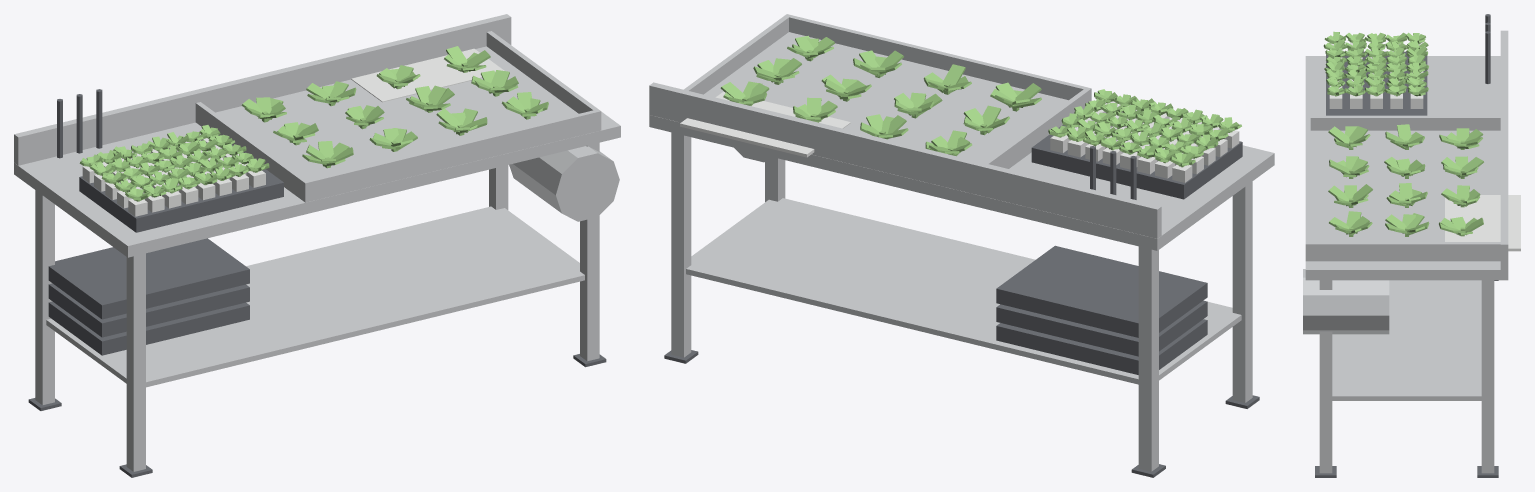
File: vertical-farm-and-hydroponics-tower-vertical-farm-and--c6f8f68b__38361.glb
3 views of the same model, side by side, from view 1: azimuth 30°, elevation 25°; view 2: azimuth 150°, elevation 25°; view 3: azimuth 270°, elevation 25° (orthographic). The views are drawn at different scales.
Parts seen in each view (by area): view 1: vertical-farm-and-hydroponics-tower-transplanting-bench; view 2: vertical-farm-and-hydroponics-tower-transplanting-bench; view 3: vertical-farm-and-hydroponics-tower-transplanting-bench.
Part boxes in pixels (left/top/right/bottom): vertical-farm-and-hydroponics-tower-transplanting-bench: left=14, top=14, right=620, bottom=477; vertical-farm-and-hydroponics-tower-transplanting-bench: left=649, top=14, right=1274, bottom=477; vertical-farm-and-hydroponics-tower-transplanting-bench: left=1303, top=14, right=1520, bottom=477.
Size of the model in its own units: 2 by 1.17 by 0.86.
